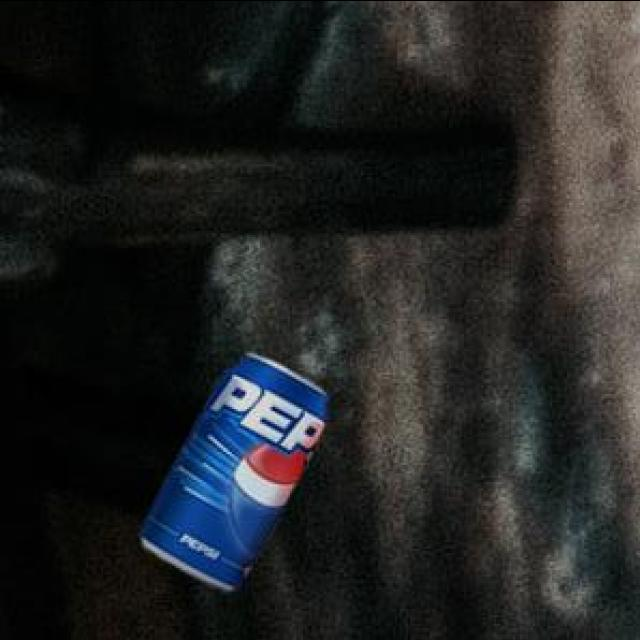logam: (139, 355, 323, 592)
